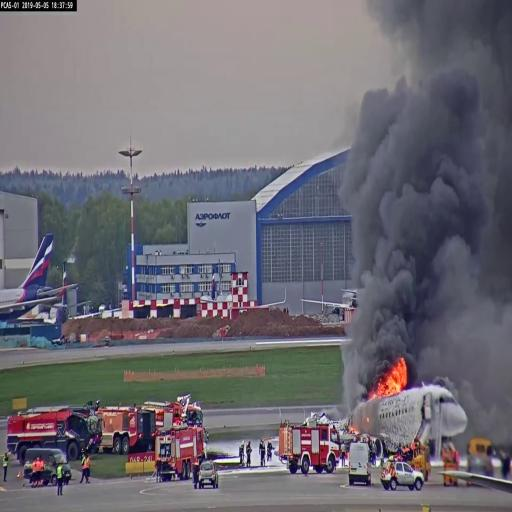fire: (374, 354, 410, 402)
smoke: (397, 6, 512, 337), (354, 92, 476, 338)
